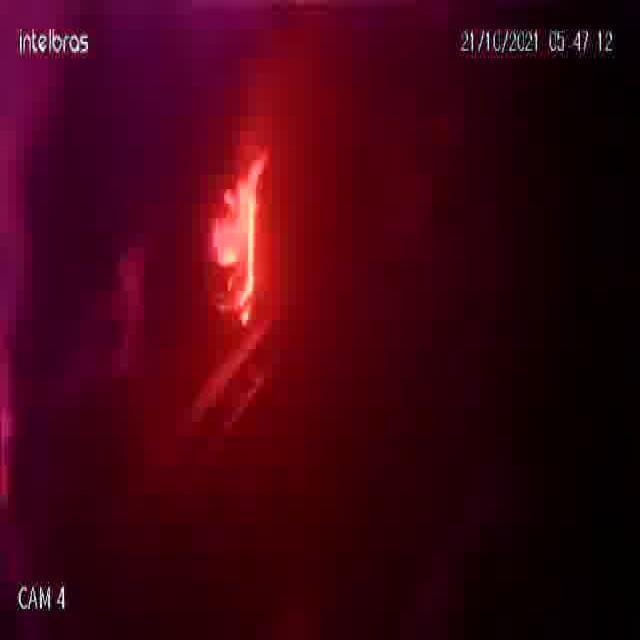Fire: (162, 89, 304, 366)
